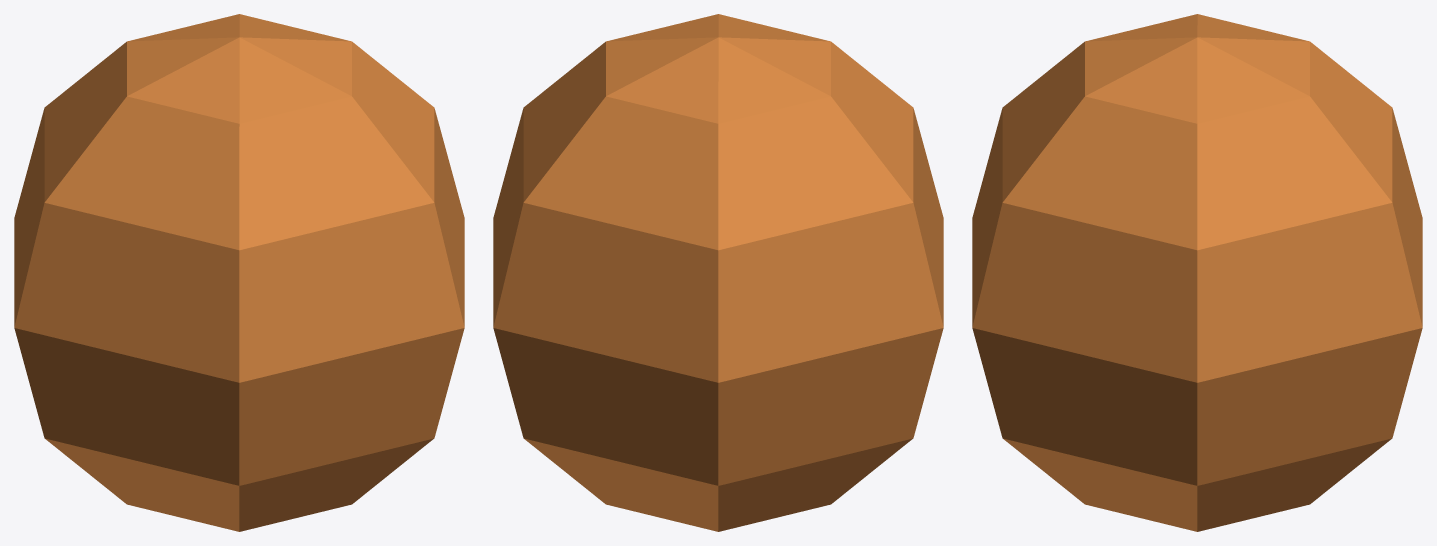
Rendered from SplatSphere.fbx.
3 renders of one model, left to right at view 1: azimuth 30°, elevation 25°; view 2: azimuth 150°, elevation 25°; view 3: azimuth 270°, elevation 25°, orthographic.
Parts seen in each view (by area): view 1: pSphere1; view 2: pSphere1; view 3: pSphere1.
Boxes of the visible parts, bbox=[...] form: pSphere1: bbox=[14, 14, 464, 531]; pSphere1: bbox=[493, 14, 943, 531]; pSphere1: bbox=[972, 14, 1422, 531].
Size of the model in its own units: 0.4 by 0.4 by 0.3464.
